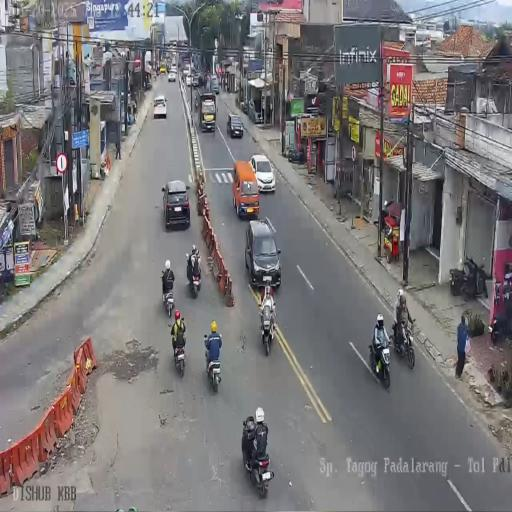3: (171, 50, 177, 68)
car: (245, 219, 281, 288), (161, 179, 190, 230), (249, 153, 275, 194), (198, 92, 217, 132), (227, 112, 244, 138), (153, 95, 167, 118), (209, 75, 219, 95), (183, 66, 192, 82), (192, 74, 200, 88), (168, 70, 176, 82), (160, 62, 166, 74), (166, 63, 171, 73)
truck: (249, 443, 275, 501), (368, 332, 390, 390), (391, 317, 415, 369), (258, 294, 276, 356), (203, 337, 222, 393), (490, 296, 512, 343), (170, 325, 186, 377), (186, 251, 202, 298), (164, 282, 175, 318), (286, 144, 304, 164)
